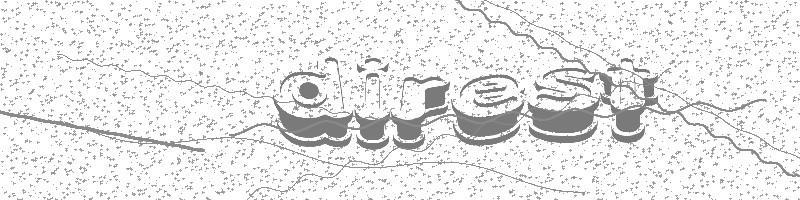d: (270, 57, 355, 149)
e: (449, 73, 528, 145)
i: (346, 55, 391, 153)
r: (390, 73, 453, 150)
s: (528, 61, 606, 145)
t: (599, 59, 659, 146)
